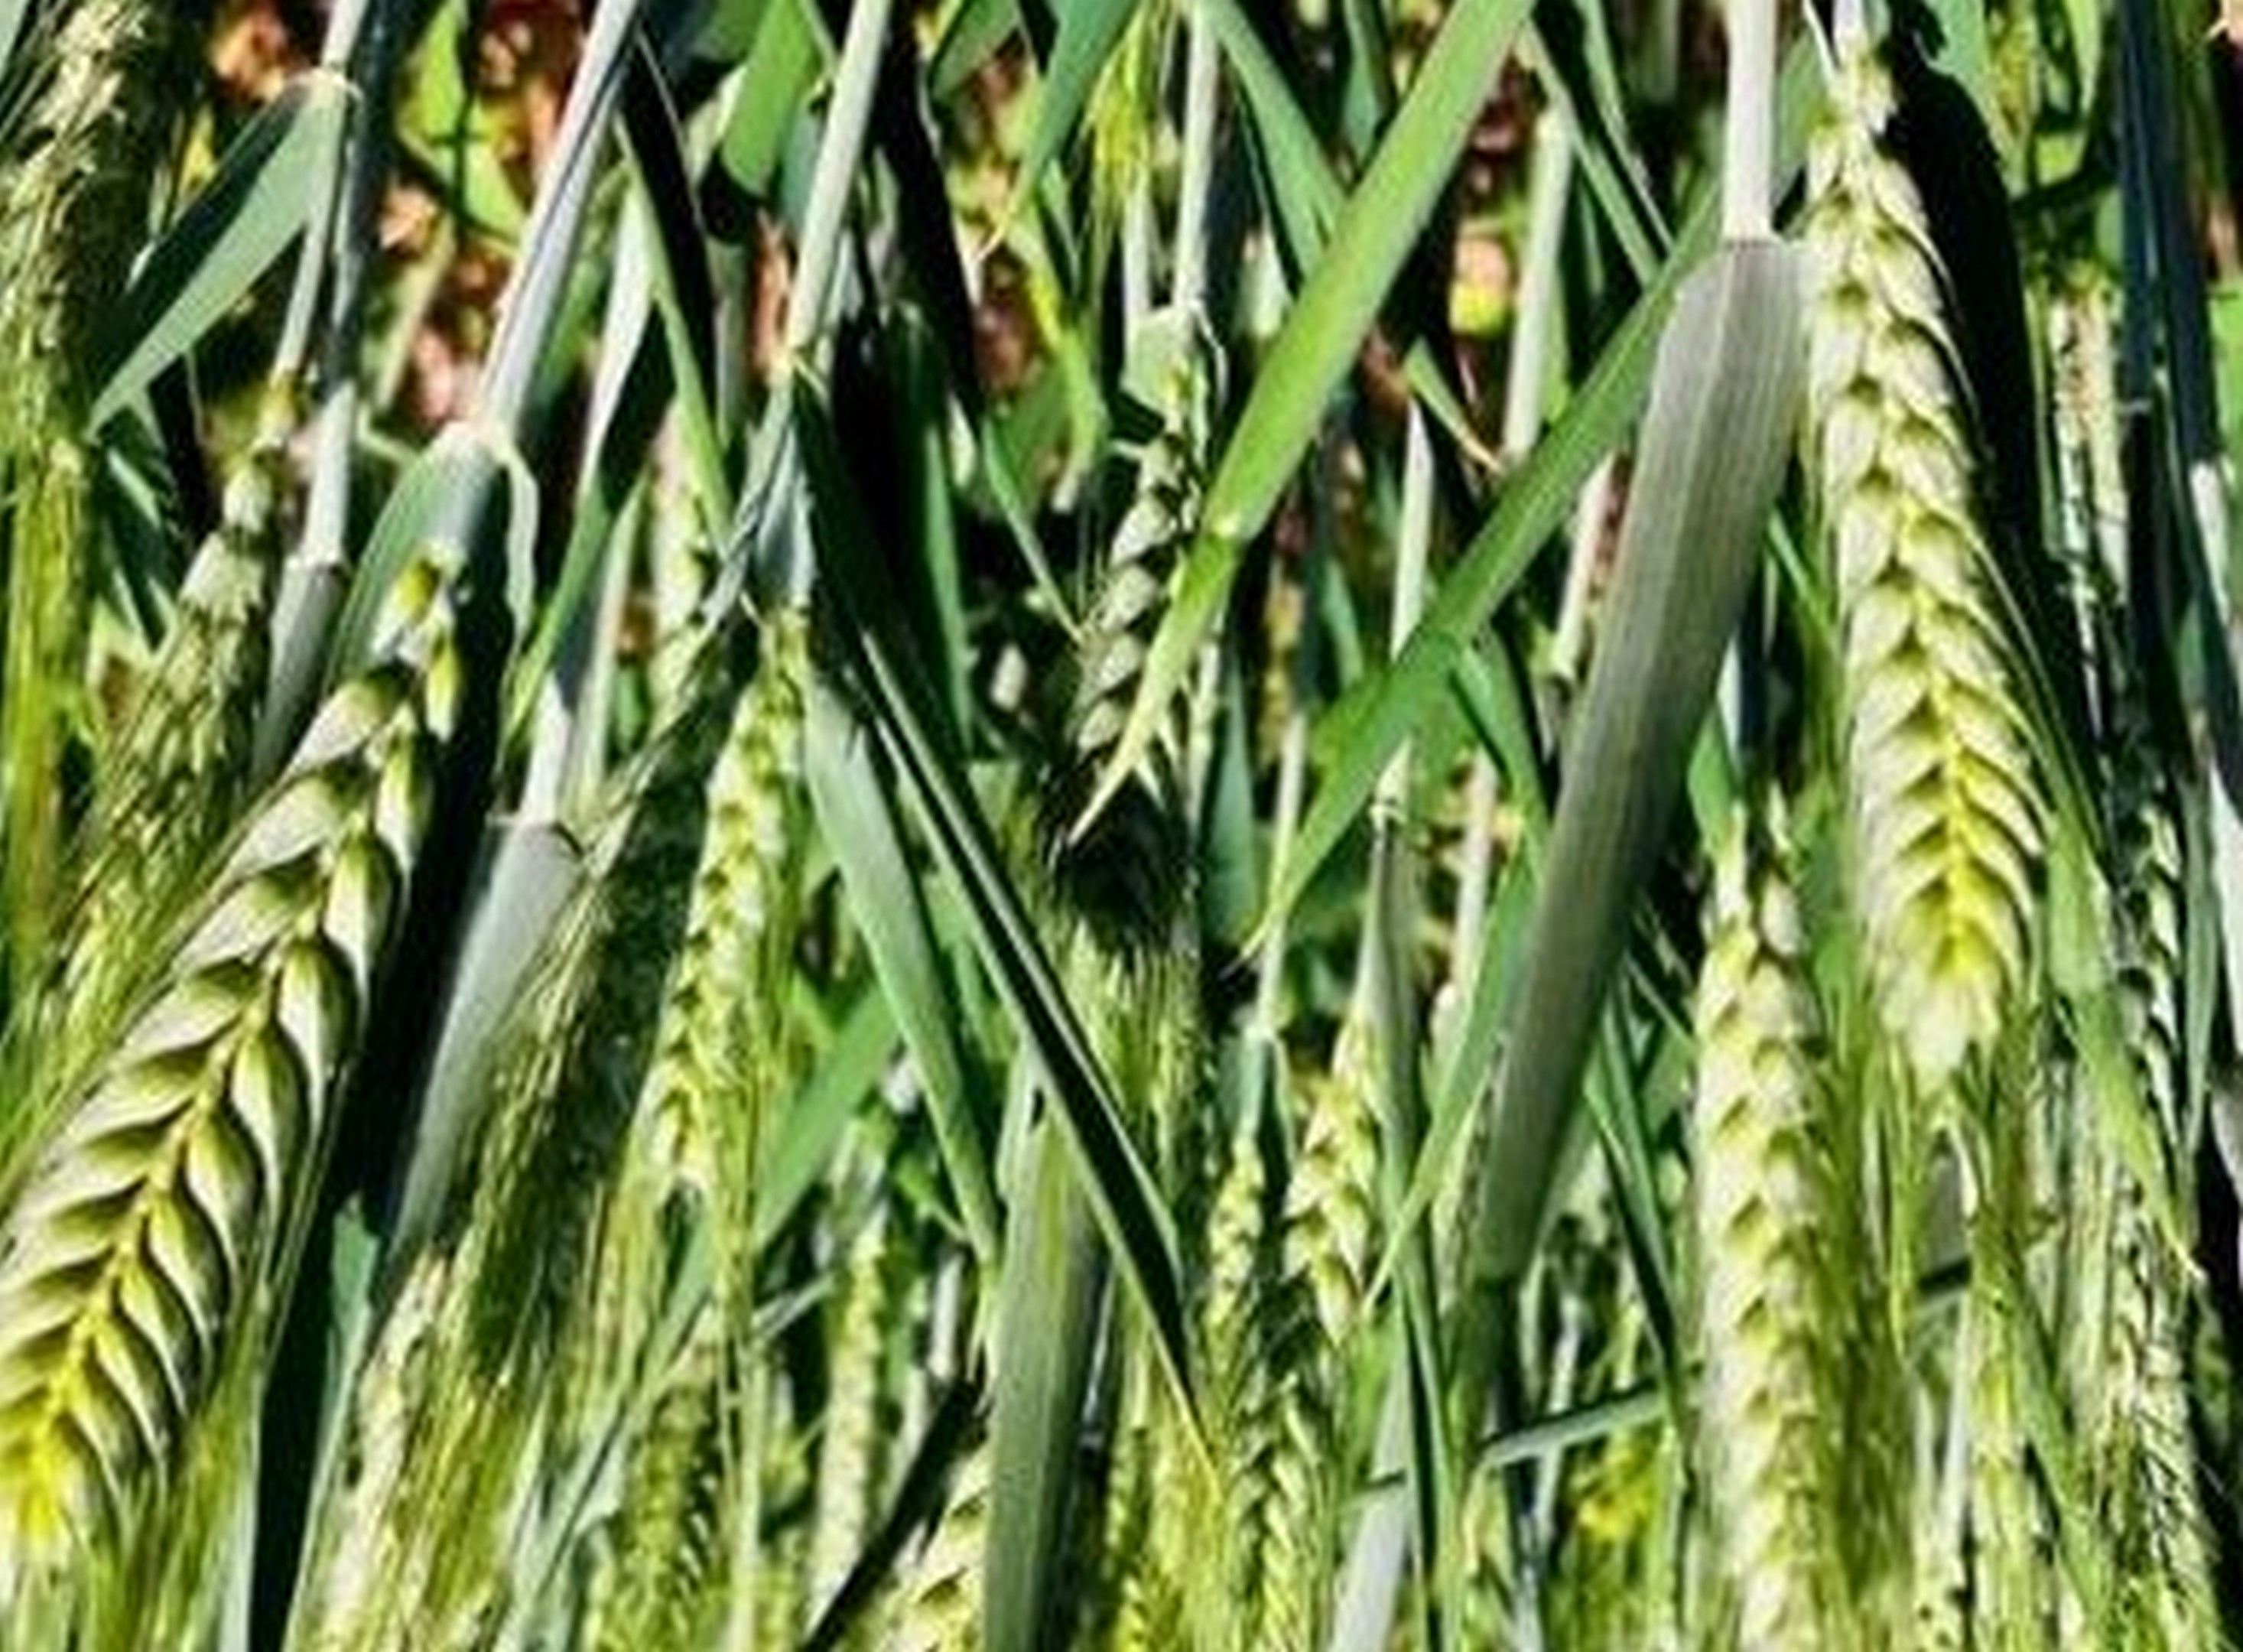Healthy Wheat: (33, 627, 461, 1546), (1790, 131, 2093, 1072)
